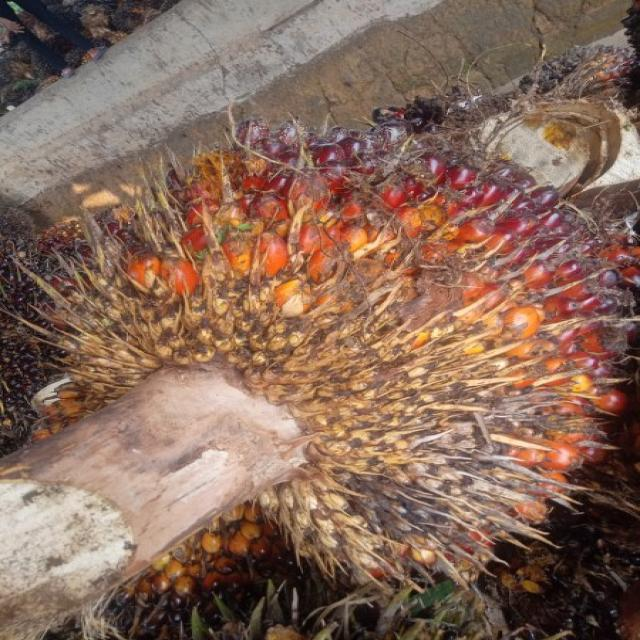fraksi 1: (32, 89, 640, 606)
